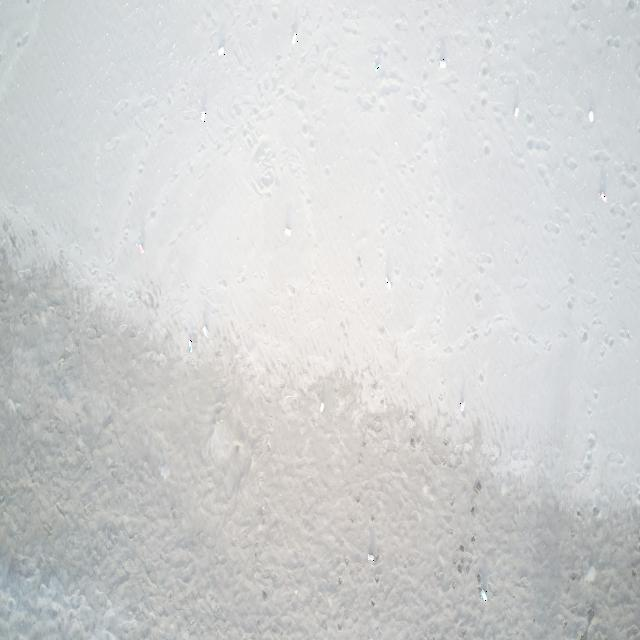tin-and-aluminum-cans: (290, 30, 298, 47), (385, 275, 392, 290), (438, 59, 447, 70), (599, 190, 607, 202), (481, 589, 488, 602), (202, 325, 209, 338), (283, 227, 292, 236), (139, 243, 145, 256), (188, 339, 193, 354), (588, 112, 594, 124), (375, 62, 381, 74), (201, 110, 207, 122), (218, 46, 225, 56), (514, 106, 519, 120), (368, 553, 374, 563), (460, 402, 465, 412), (320, 402, 324, 413)
